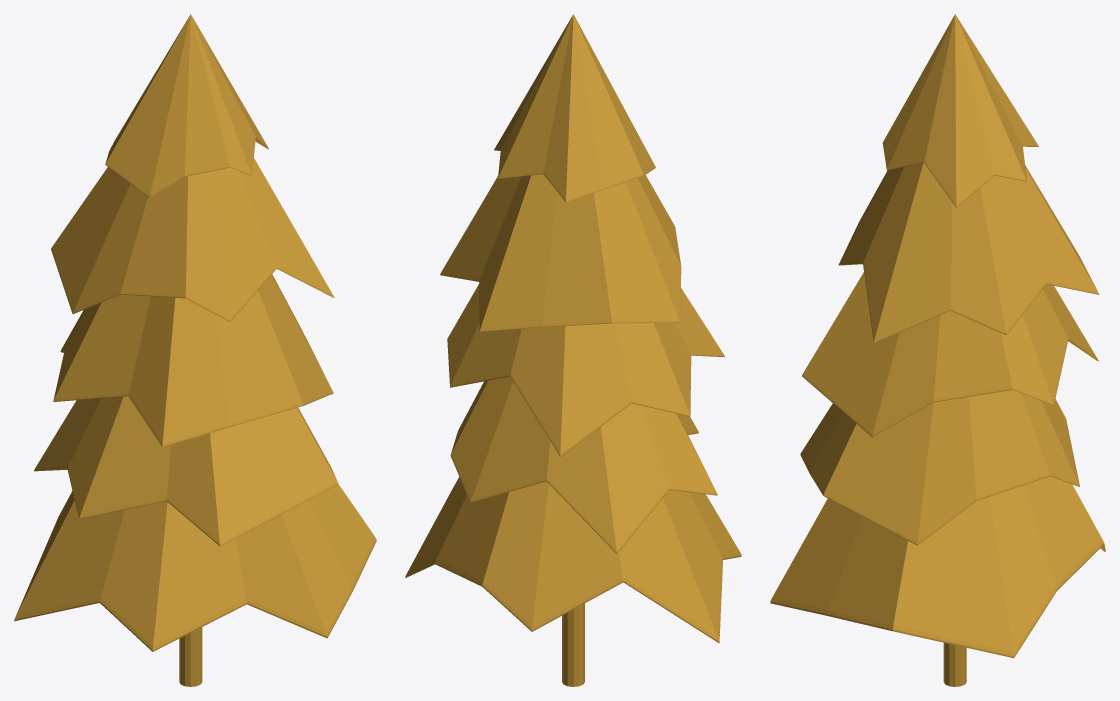
File: larch.glb
3 views of the same model, side by side, from view 1: azimuth 30°, elevation 25°; view 2: azimuth 150°, elevation 25°; view 3: azimuth 270°, elevation 25° (orthographic).
Parts seen in each view (by area): view 1: Cone.005, Cone.007, Cone.008, Cone.006, Cone.009, Cylinder.001; view 2: Cone.005, Cone.008, Cone.006, Cone.007, Cone.009, Cylinder.001; view 3: Cone.005, Cone.008, Cone.006, Cone.007, Cone.009, Cylinder.001.
Part boxes in pixels (x1,y1,x2,y2): Cone.005: [14, 484, 376, 651]; Cone.007: [53, 274, 333, 447]; Cone.008: [51, 157, 334, 321]; Cone.006: [34, 396, 338, 546]; Cone.009: [105, 14, 268, 197]; Cylinder.001: [179, 627, 202, 686]; Cone.005: [405, 477, 741, 642]; Cone.008: [440, 174, 681, 331]; Cone.006: [450, 376, 717, 553]; Cone.007: [447, 284, 724, 456]; Cone.009: [494, 14, 655, 202]; Cylinder.001: [562, 603, 584, 686]; Cone.005: [770, 476, 1105, 658]; Cone.008: [838, 163, 1099, 343]; Cone.006: [800, 390, 1079, 545]; Cone.007: [802, 272, 1098, 437]; Cone.009: [882, 14, 1038, 207]; Cylinder.001: [943, 643, 966, 686].
Bounding box in the file's own units: 1.86 × 3.75 × 1.71.
